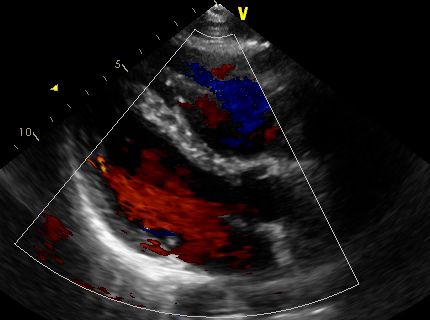AR: (119, 146, 250, 216)
